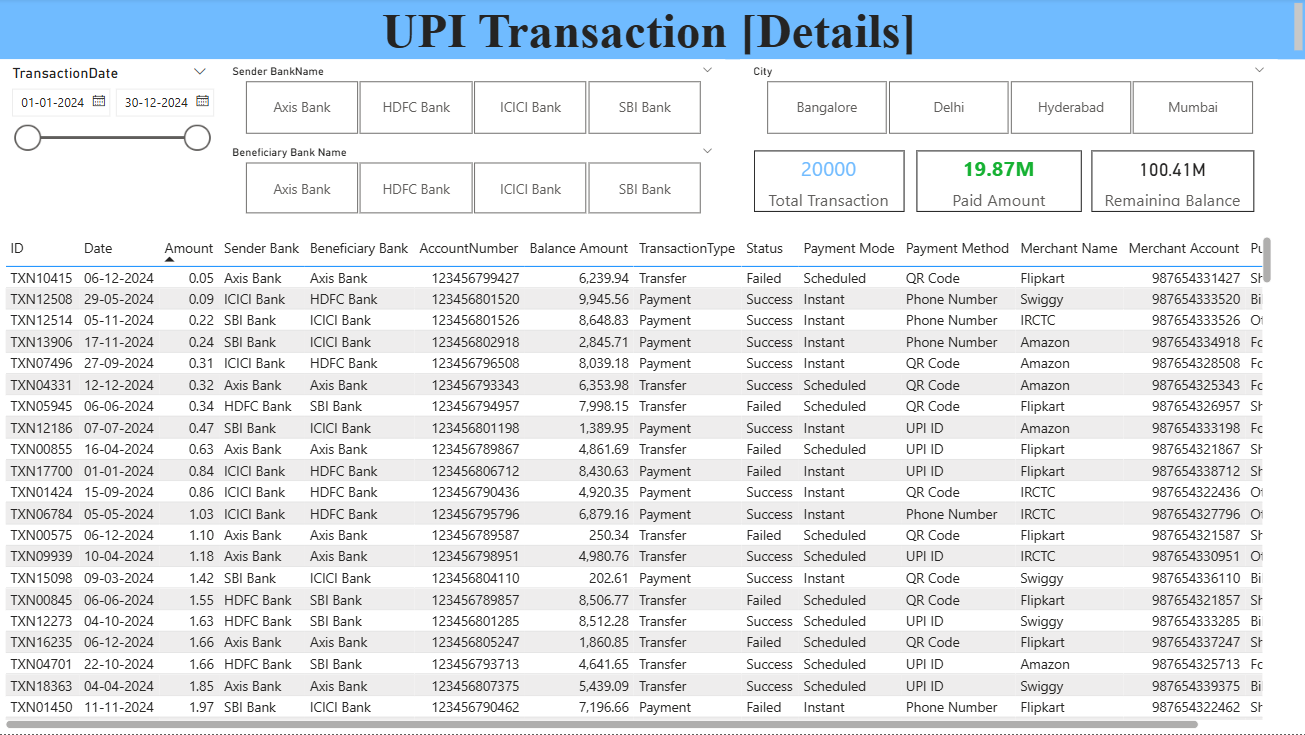

What the dashboard file says about the page in this screenshot:
{"tool":"powerbi","page":{"name":"Details","canvas":[1280,720],"ordinal":4},"visuals":[{"type":"textbox","box":[0,0,1280.3,60.4],"z":0},{"type":"slicer","fields":{"Values":["Upi Transaction.TransactionDate"]},"box":[0,60.4,215.4,157.8],"z":1000},{"type":"slicer","fields":{"Values":["Upi Transaction.BankNameSent"]},"box":[215.4,60.4,495.4,79.6],"z":2000},{"type":"slicer","fields":{"Values":["Upi Transaction.BankNameReceived"]},"box":[215.4,140,495.4,78.2],"z":3000},{"type":"slicer","fields":{"Values":["Upi Transaction.City"]},"box":[724.5,60.4,525.6,79.6],"z":4000},{"type":"textbox","box":[0,279,215,158],"z":5000},{"type":"textbox","box":[0,489.5,215,158],"z":6000},{"type":"textbox","box":[215,279,495,158],"z":7000},{"type":"card","fields":{"Values":["Count(Upi Transaction.TransactionID)"]},"box":[738.3,149.6,146.8,60.4],"z":8000},{"type":"card","fields":{"Values":["Sum(Upi Transaction.Amount)"]},"box":[897.4,149.6,161.9,60.4],"z":9000},{"type":"card","fields":{"Values":["Sum(Upi Transaction.RemainingBalance)"]},"box":[1069,149.6,159.2,60.4],"z":10000},{"type":"tableEx","fields":{"Values":["Upi Transaction.TransactionID","Upi Transaction.TransactionDate","Upi Transaction.Amount","Upi Transaction.BankNameReceived","Upi Transaction.BankNameSent","Upi Transaction.CustomerAccountNumber","Upi Transaction.RemainingBalance","Upi Transaction.TransactionType","Upi Transaction.Status","Upi Transaction.PaymentMode","Upi Transaction.PaymentMethod","Upi Transaction.MerchantName"]},"box":[0,229.2,1250.1,491.3],"z":11000}]}

Visuals, with their boxes in screenshot pixels (x1, y1, x2, y2), scaled from the page's 1280x720 canvas onto the 1305x735 screenshot:
textbox: locate(0, 0, 1304, 62)
slicer - Upi Transaction.TransactionDate: locate(0, 62, 220, 223)
slicer - Upi Transaction.BankNameSent: locate(220, 62, 725, 143)
slicer - Upi Transaction.BankNameReceived: locate(220, 143, 725, 223)
slicer - Upi Transaction.City: locate(739, 62, 1275, 143)
textbox: locate(0, 285, 219, 446)
textbox: locate(0, 500, 219, 661)
textbox: locate(219, 285, 724, 446)
card - Count(Upi Transaction.TransactionID): locate(753, 153, 902, 214)
card - Sum(Upi Transaction.Amount): locate(915, 153, 1080, 214)
card - Sum(Upi Transaction.RemainingBalance): locate(1090, 153, 1252, 214)
tableEx - Upi Transaction.TransactionID x Upi Transaction.TransactionDate: locate(0, 234, 1275, 734)
